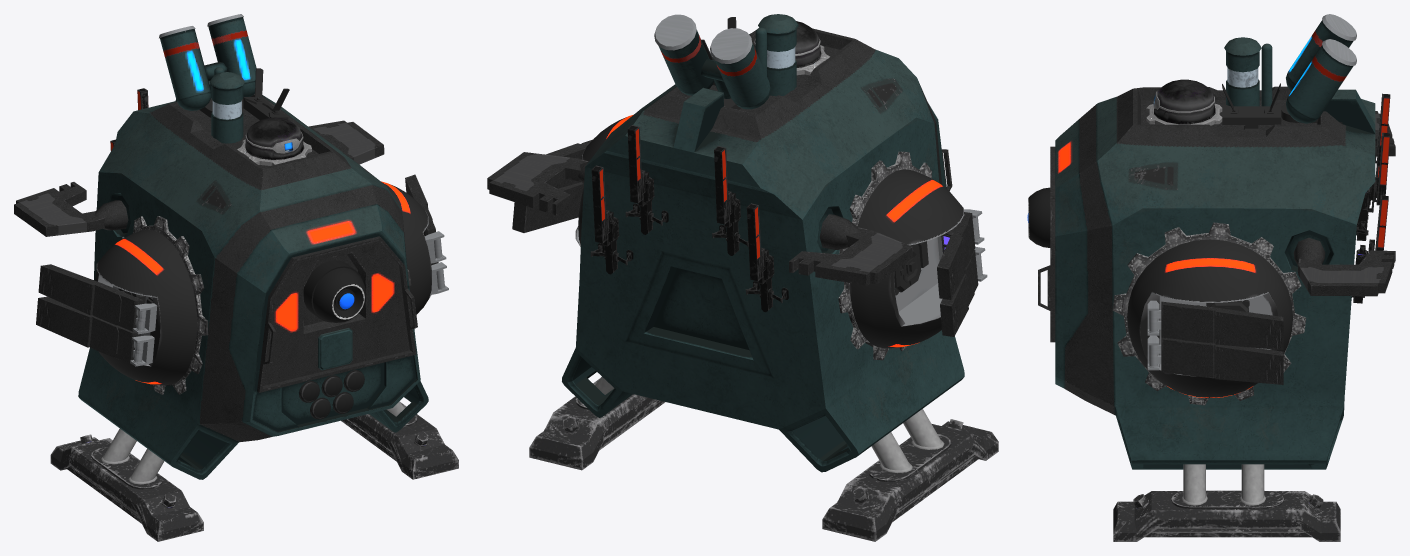
File: Penguin_DarkGreen.glb
The picture shows the model from 3 angles, left to right: view 1: azimuth 30°, elevation 25°; view 2: azimuth 150°, elevation 25°; view 3: azimuth 270°, elevation 25°; orthographic projection. The views are drawn at different scales.
Parts seen in each view (by area): view 1: Penguin; view 2: Penguin; view 3: Penguin.
Part boxes in pixels (bbox=[...]): Penguin: bbox=[14, 14, 458, 541]; Penguin: bbox=[487, 14, 998, 541]; Penguin: bbox=[1027, 14, 1395, 541].
Bounding box in the file's own units: 1.46 × 1.49 × 1.14.
1 material, 1 textured.
